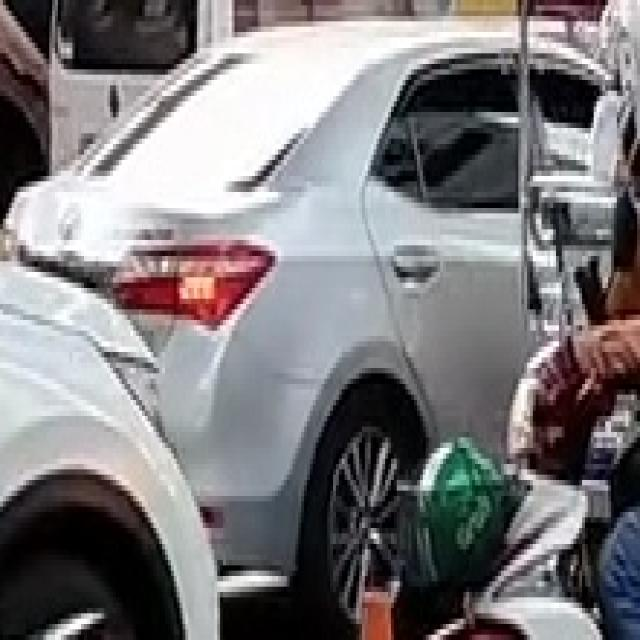door: (46, 0, 197, 176)
helmet: (597, 0, 637, 139)
tyre: (295, 373, 426, 630)
